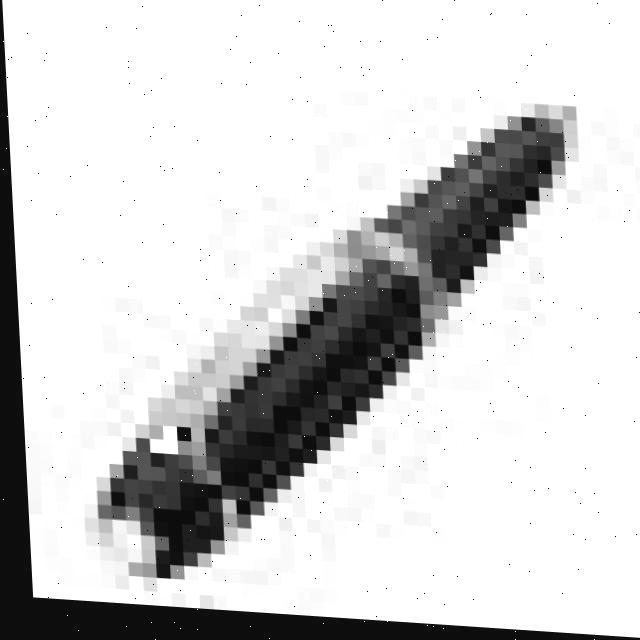pen: (73, 68, 610, 610)
